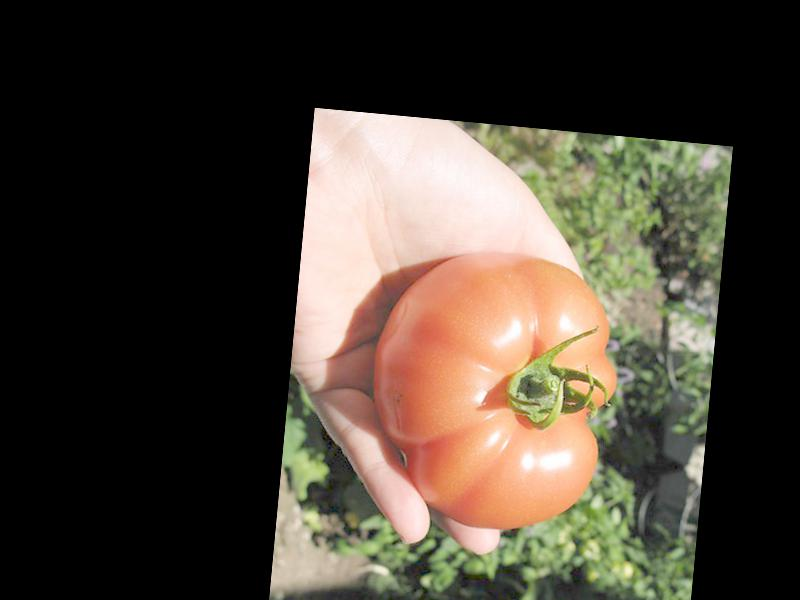Tomato: (364, 244, 627, 539)
